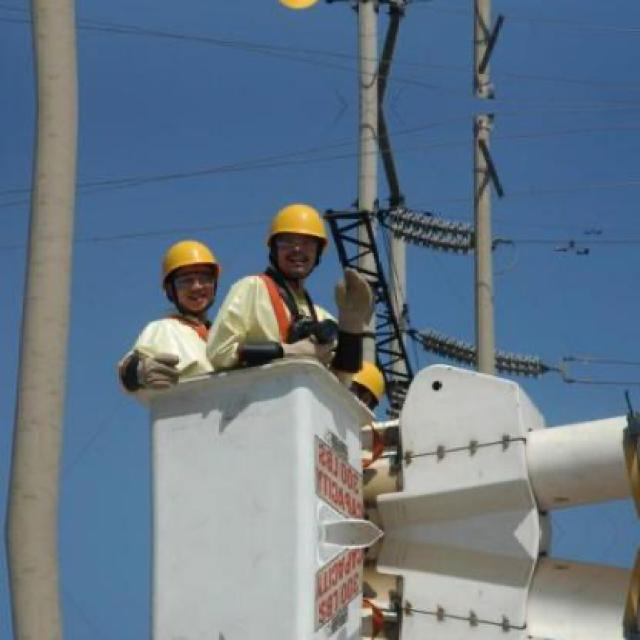con casco: (254, 195, 358, 318)
